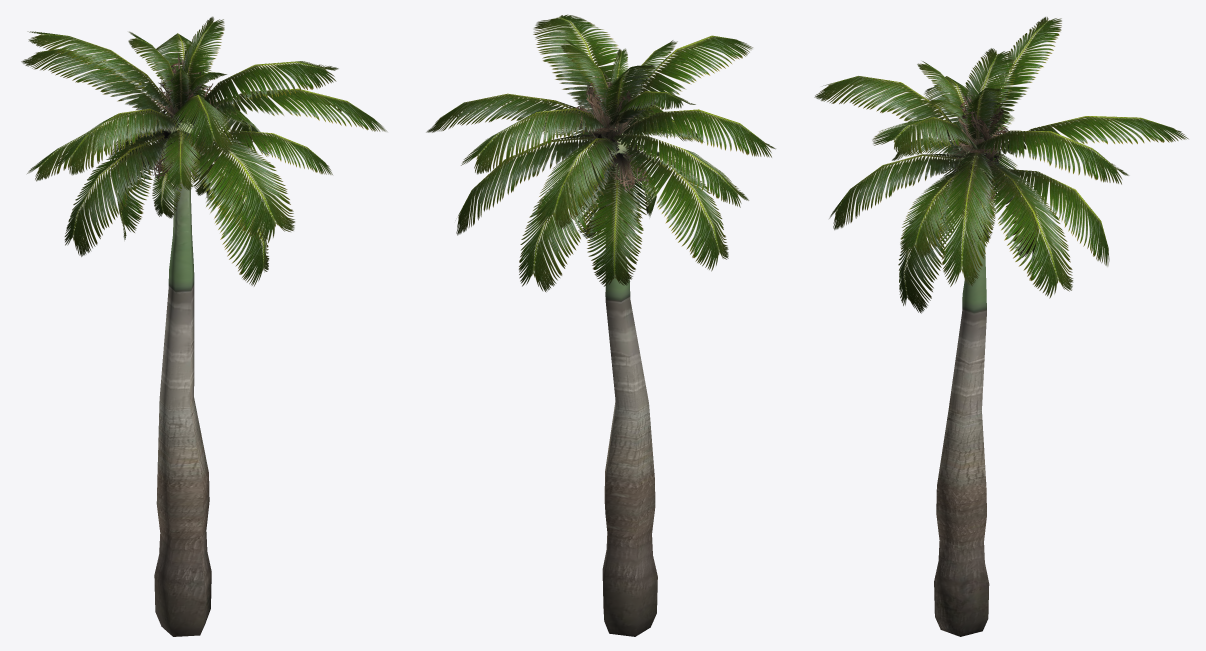
Rendered from Palm1_VAR4.glb.
3 views of the same model, side by side, from view 1: azimuth 30°, elevation 25°; view 2: azimuth 150°, elevation 25°; view 3: azimuth 270°, elevation 25° (orthographic). The views are drawn at different scales.
Visible parts, largest first — view 1: Palm1_VAR4; view 2: Palm1_VAR4; view 3: Palm1_VAR4.
Part boxes in pixels (bbox=[...]): Palm1_VAR4: bbox=[21, 16, 387, 636]; Palm1_VAR4: bbox=[426, 14, 775, 636]; Palm1_VAR4: bbox=[814, 17, 1188, 636].
Bounding box in the file's own units: 3.49 × 5.75 × 3.54.
1 material, 1 textured.
